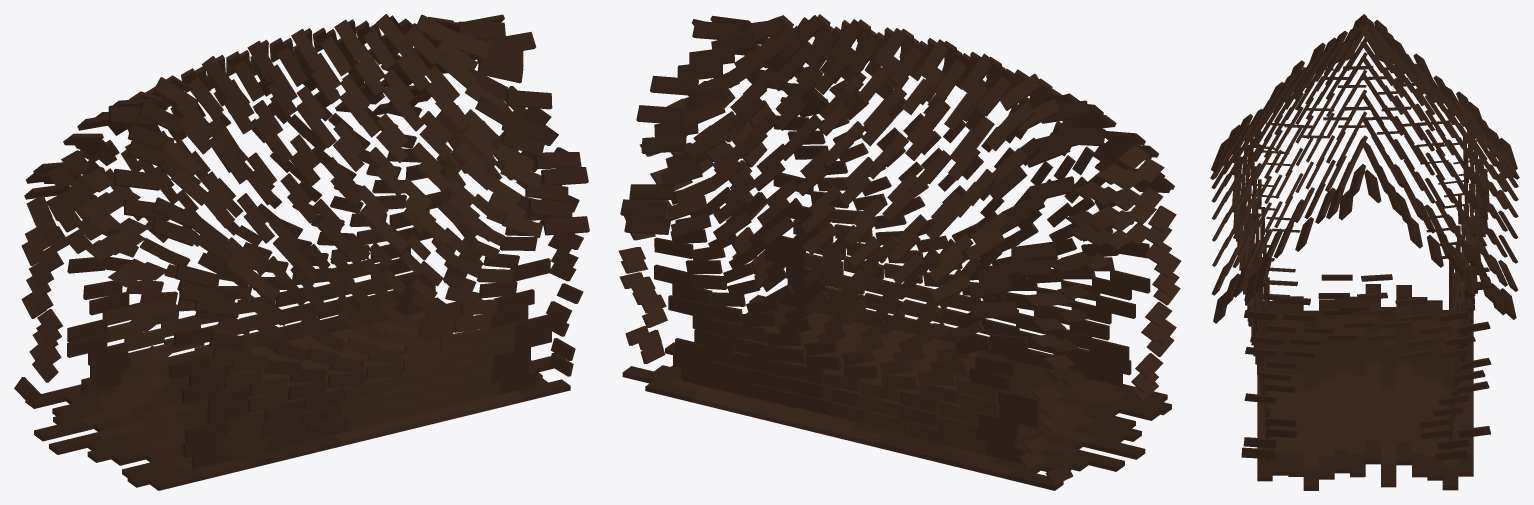
File: WoodHouse2.glb
The picture shows the model from 3 angles, left to right: view 1: azimuth 30°, elevation 25°; view 2: azimuth 150°, elevation 25°; view 3: azimuth 270°, elevation 25°; orthographic projection. The views are drawn at different scales.
Visible parts, largest first — view 1: Cube.2520; view 2: Cube.2520; view 3: Cube.2520.
Part boxes in pixels (x1,y1,x2,y2): Cube.2520: [14, 14, 589, 490]; Cube.2520: [618, 14, 1181, 490]; Cube.2520: [1210, 14, 1519, 490].
Size of the model in its own units: 56.04 by 41.21 by 35.86.
Materials: 1 (1 with a texture image).
